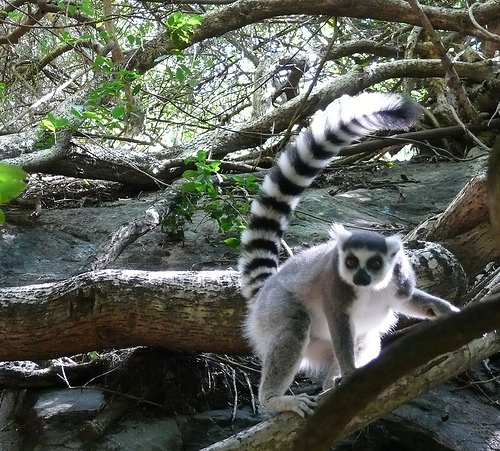cat: (239, 92, 463, 417)
